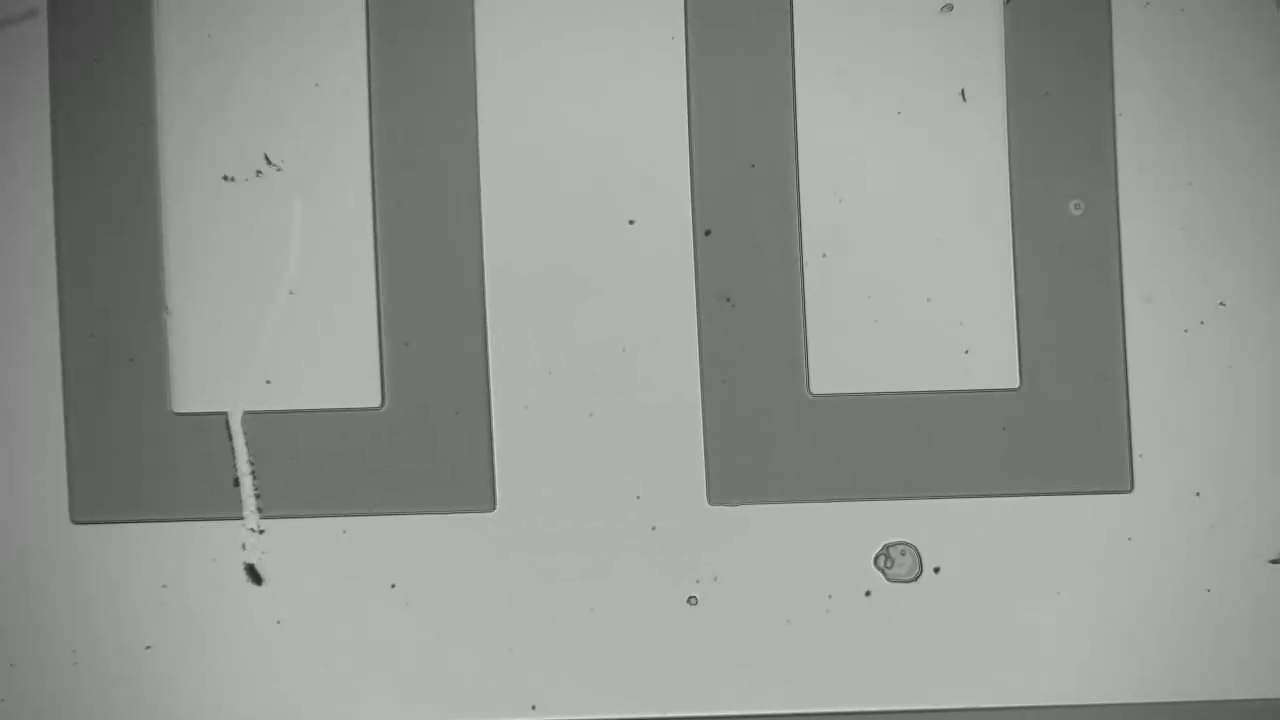Short_circuit: (208, 393, 289, 545)
